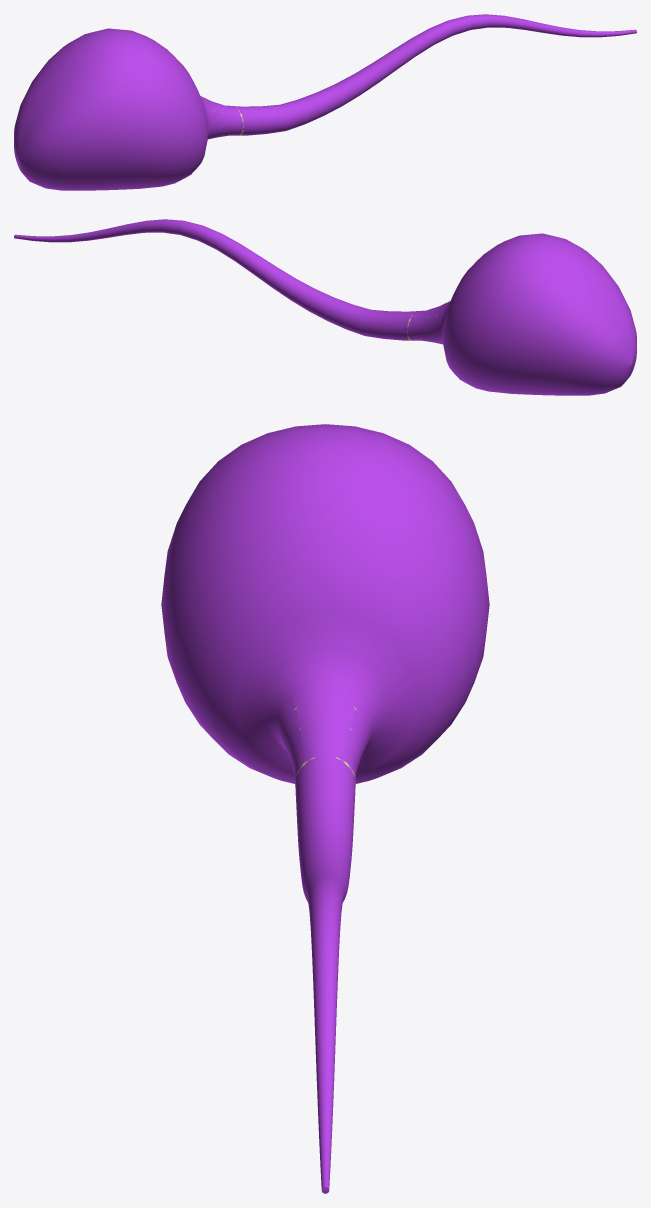
3 renders of one model, top to bottom at view 1: azimuth 30°, elevation 25°; view 2: azimuth 150°, elevation 25°; view 3: azimuth 270°, elevation 25°, orthographic. The views are drawn at different scales.
Visible parts, largest first — view 1: split_parent_2; view 2: split_parent_2; view 3: split_parent_2.
Part boxes in pixels (x1=…): split_parent_2: x1=14, y1=14, x2=636, y2=190; split_parent_2: x1=14, y1=219, x2=636, y2=395; split_parent_2: x1=161, y1=424, x2=489, y2=1193.
Bounding box in the file's own units: 1 × 0.2344 × 0.2305.
